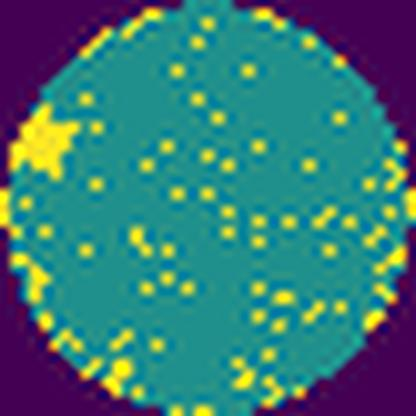Edge-Loc: (5, 104, 81, 181), (9, 252, 53, 307)
